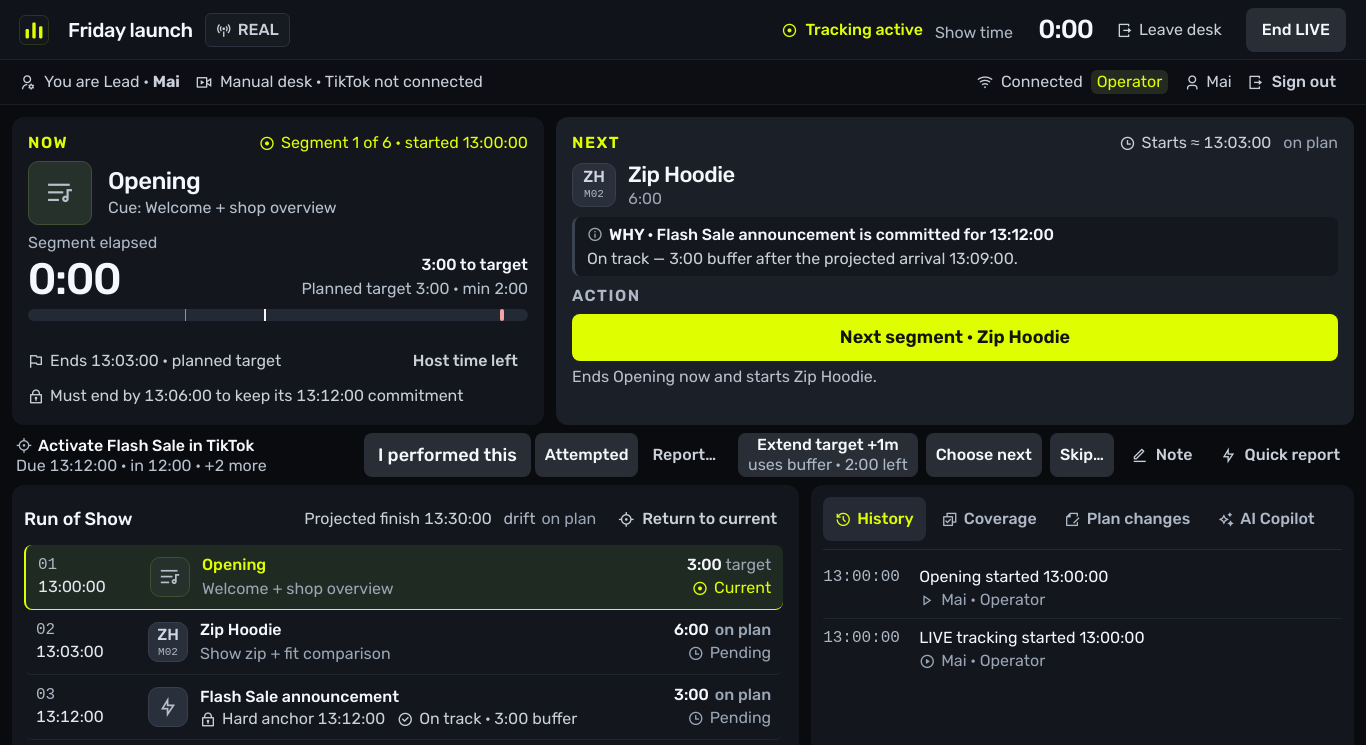
Test: REAL Operate: operator › a lost answer to End LIVE is OUTCOME UNKNOWN: no navigation, a banner, and no automatic re-send
Click the button with test id "end-live-header-btn" at (1296, 30), box [1246, 8, 1346, 52]
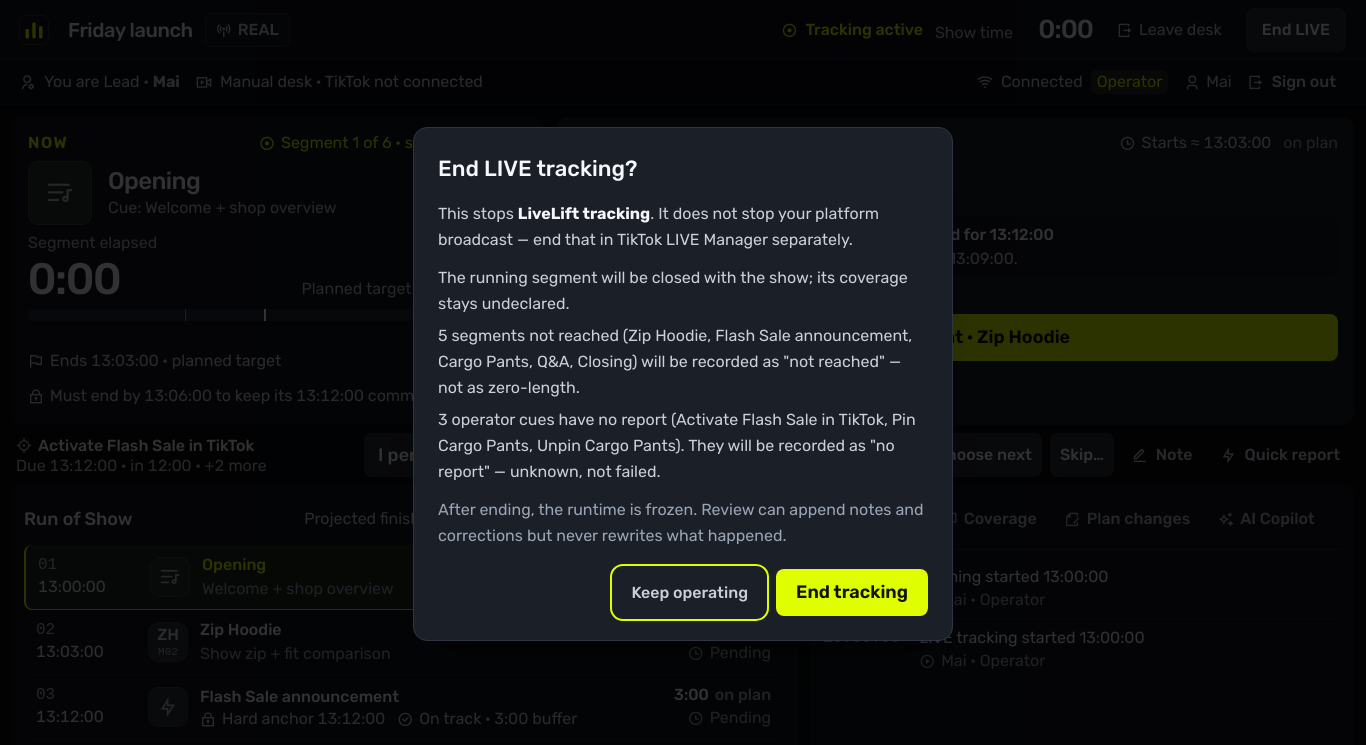
Click the button "End tracking" at (852, 592), box [776, 569, 928, 616]
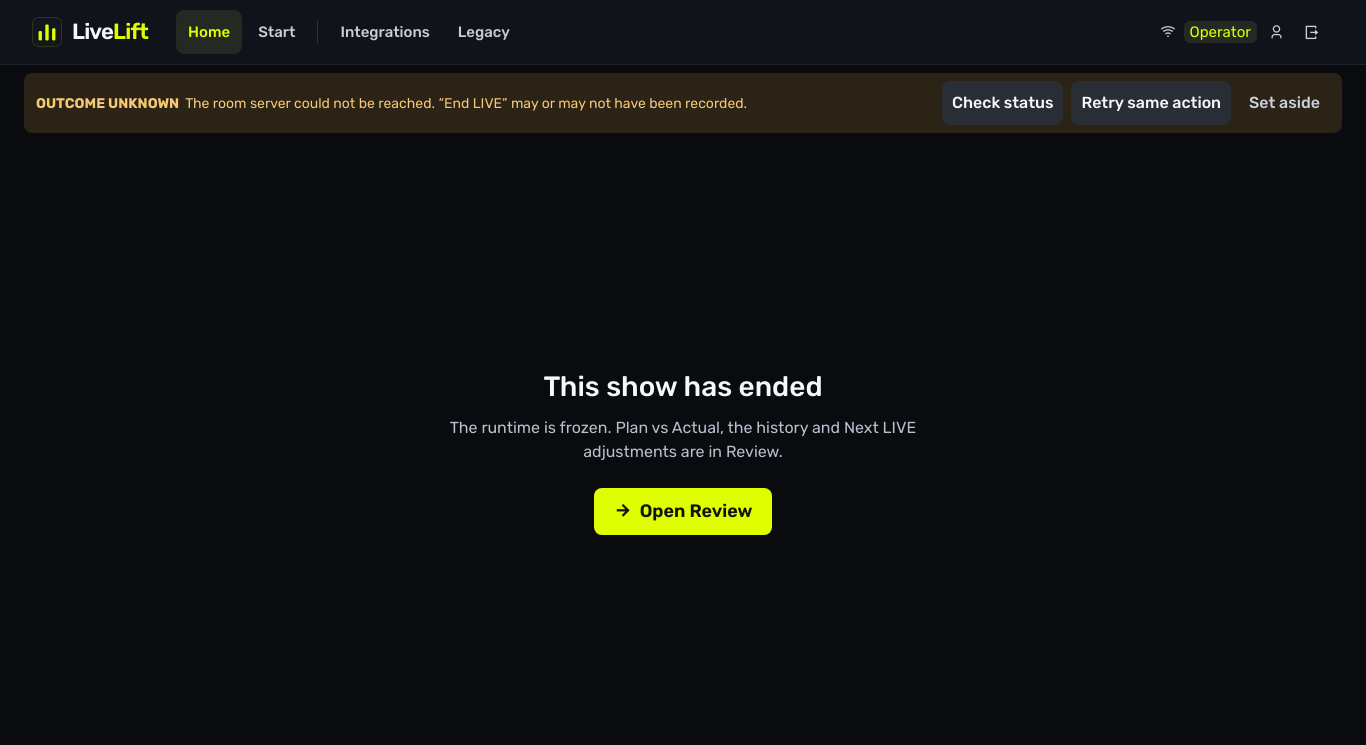
expect the element with test id "outcome-unknown-banner" shows "OUTCOME UNKNOWN": met, box [36, 94, 179, 112]
expect the element with test id "outcome-unknown-banner" shows "may or may not have been recorded": met, box [185, 94, 747, 112]
// Check status uses the receipt endpoint: the room did commit it. Still no second POST.
Click the button with test id "outcome-check-btn" at (1003, 103), box [942, 81, 1064, 125]
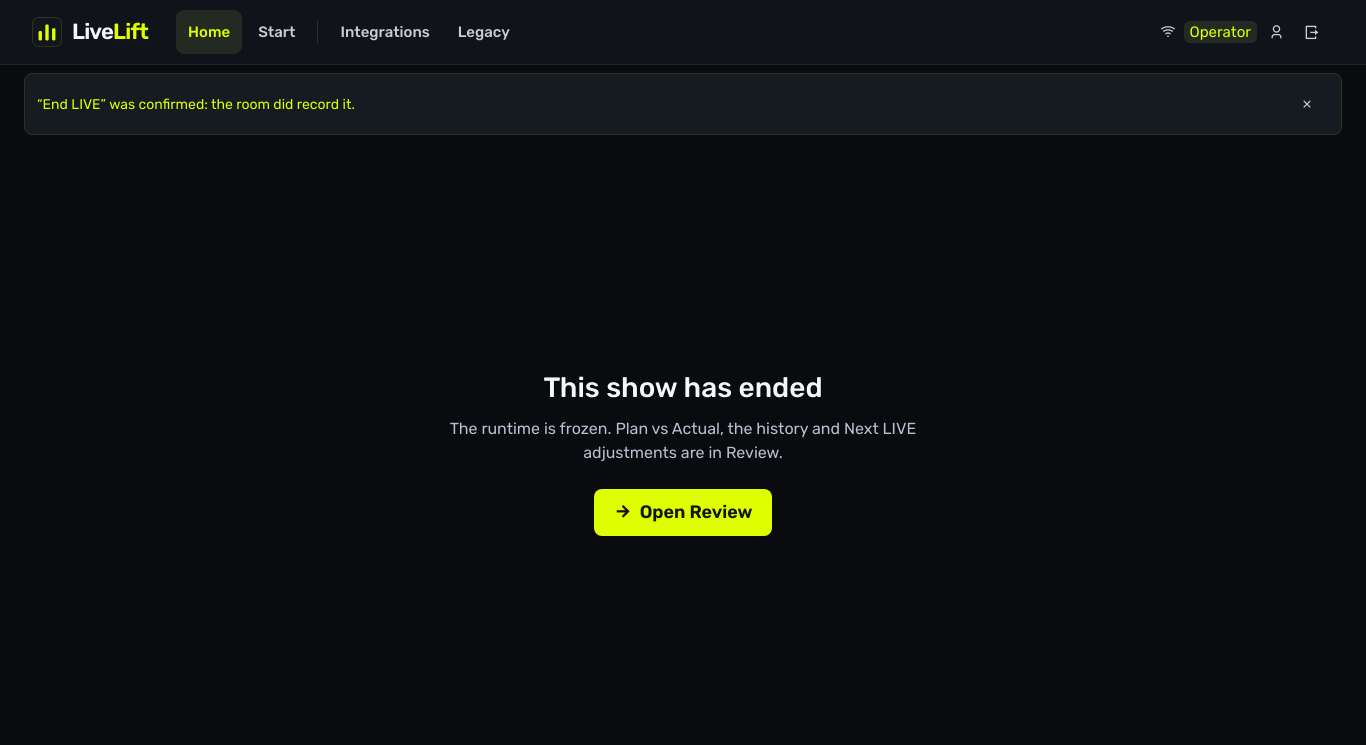
expect the element with test id "outcome-resolution" shows "did record it": met, box [37, 96, 355, 112]
